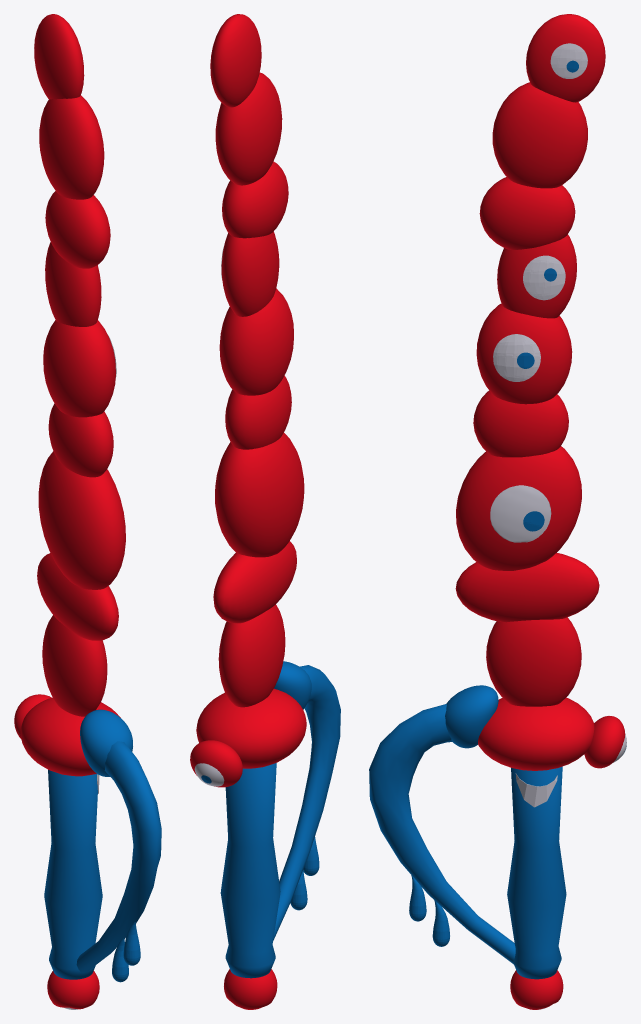
File: myakumyakusaber1.fbx
3 renders of one model, left to right at view 1: azimuth 30°, elevation 25°; view 2: azimuth 150°, elevation 25°; view 3: azimuth 270°, elevation 25°, orthographic. The views are drawn at different scales.
Visible parts, largest first — view 1: 持ち手, 球.009, ベジエカーブ, 球.013, 球.016, 球.010, 球.011, 球.007, 球.015, 球.012, 球.017, 球.014 (+5 smaller); view 2: 持ち手, 球.009, ベジエカーブ, 球.007, 球.013, 球.016, 球.010, 球.011, 球.014, 球.017, 球.015, 球.012 (+6 smaller); view 3: 持ち手, 球.009, ベジエカーブ, 球.016, 球.010, 球.011, 球.007, 球.013, 球.015, 球.012, 球.017, 球.014 (+9 smaller).
Part boxes in pixels (x1=…): 持ち手: x1=44, y1=770, x2=102, y2=979; 球.009: x1=38, y1=451, x2=125, y2=589; ベジエカーブ: x1=76, y1=741, x2=161, y2=972; 球.013: x1=43, y1=320, x2=115, y2=417; 球.016: x1=39, y1=95, x2=104, y2=199; 球.010: x1=42, y1=615, x2=107, y2=716; 球.011: x1=37, y1=553, x2=118, y2=640; 球.007: x1=20, y1=697, x2=120, y2=776; 球.015: x1=45, y1=191, x2=110, y2=268; 球.012: x1=48, y1=403, x2=113, y2=477; 球.017: x1=34, y1=14, x2=84, y2=99; 球.014: x1=45, y1=242, x2=101, y2=326; 持ち手: x1=220, y1=763, x2=280, y2=978; 球.009: x1=215, y1=432, x2=304, y2=557; ベジエカーブ: x1=273, y1=665, x2=340, y2=940; 球.007: x1=196, y1=688, x2=306, y2=768; 球.013: x1=219, y1=288, x2=293, y2=395; 球.016: x1=215, y1=72, x2=282, y2=185; 球.010: x1=218, y1=604, x2=285, y2=707; 球.011: x1=213, y1=541, x2=296, y2=623; 球.014: x1=221, y1=231, x2=279, y2=316; 球.017: x1=210, y1=14, x2=261, y2=107; 球.015: x1=222, y1=161, x2=288, y2=238; 球.012: x1=225, y1=375, x2=291, y2=449; 持ち手: x1=507, y1=766, x2=566, y2=979; 球.009: x1=456, y1=446, x2=581, y2=570; ベジエカーブ: x1=369, y1=704, x2=515, y2=964; 球.016: x1=492, y1=82, x2=587, y2=188; 球.010: x1=486, y1=617, x2=581, y2=706; 球.011: x1=455, y1=553, x2=599, y2=622; 球.007: x1=478, y1=697, x2=594, y2=770; 球.013: x1=476, y1=303, x2=572, y2=404; 球.015: x1=479, y1=177, x2=575, y2=249; 球.012: x1=473, y1=390, x2=568, y2=457; 球.017: x1=526, y1=14, x2=605, y2=102; 球.014: x1=497, y1=234, x2=576, y2=318.
Size of the model in its own units: 3.91 by 40.7 by 9.57.
